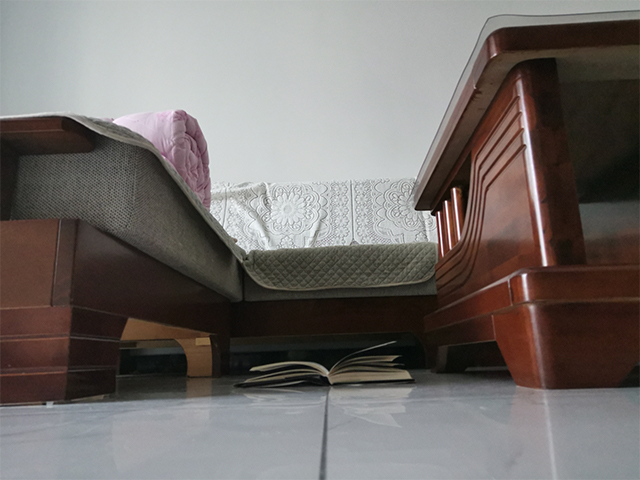book: (233, 340, 415, 390)
sofa: (1, 110, 438, 408)
table: (411, 8, 640, 392)
